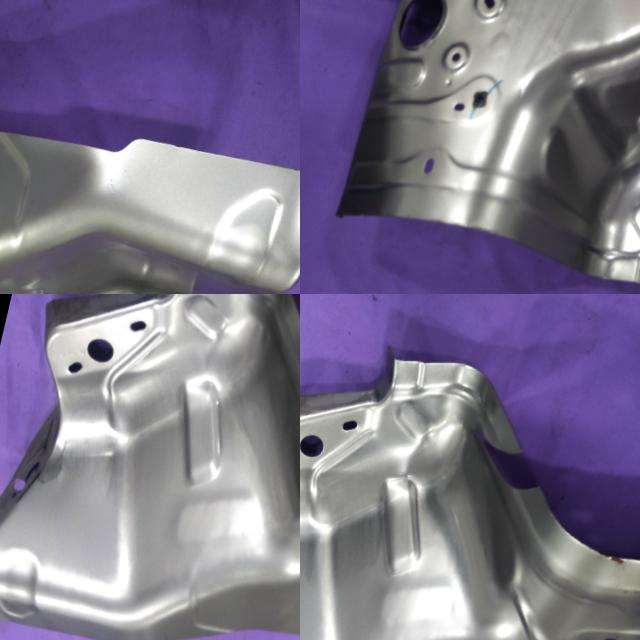Defect: (450, 420, 561, 510)
Healthy: (0, 294, 300, 640), (331, 0, 640, 294)
rust: (578, 538, 640, 586)
